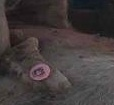text: (27, 61, 52, 84)
